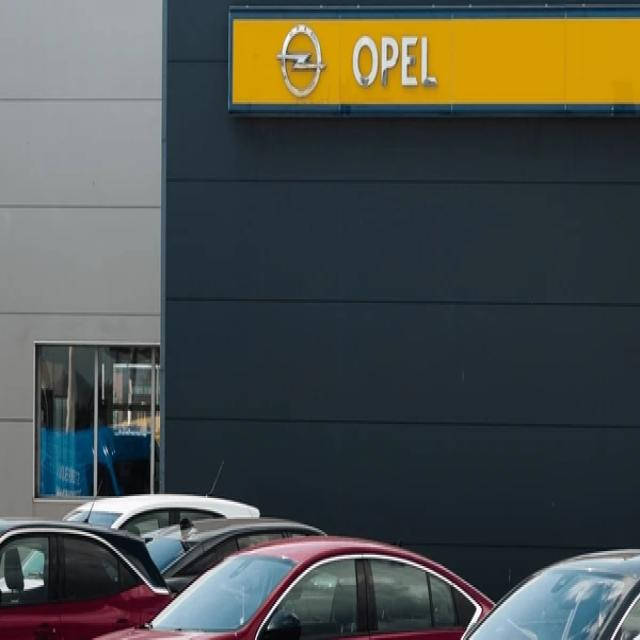opel: (276, 20, 328, 100)
